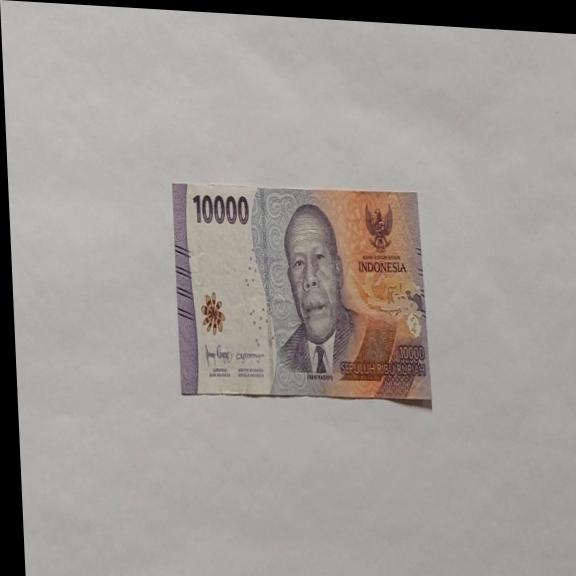Kertas: (170, 176, 432, 410), (191, 189, 251, 229)
